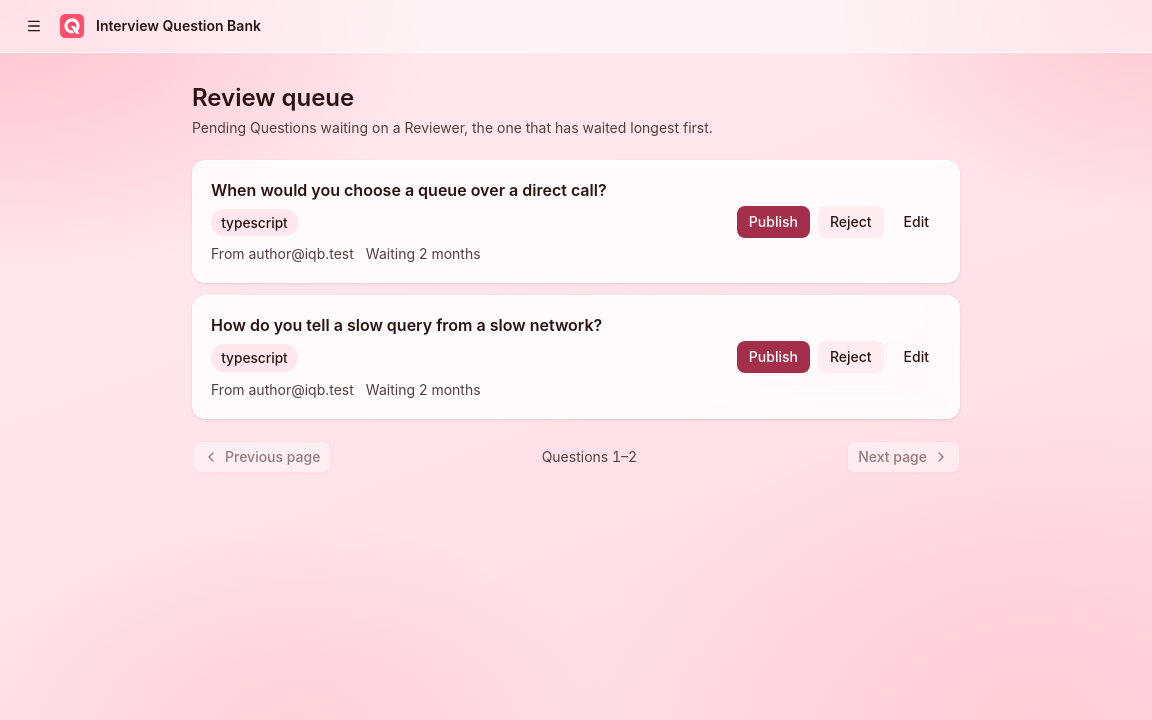
it: publishing from the review queue › reports a refusal in the API's words, and keeps it after the queue reloads
The width and height of the screenshot is (1152, 720).
Step 1. Click the 1st button "Publish" → (773, 222), box [737,206,810,238]
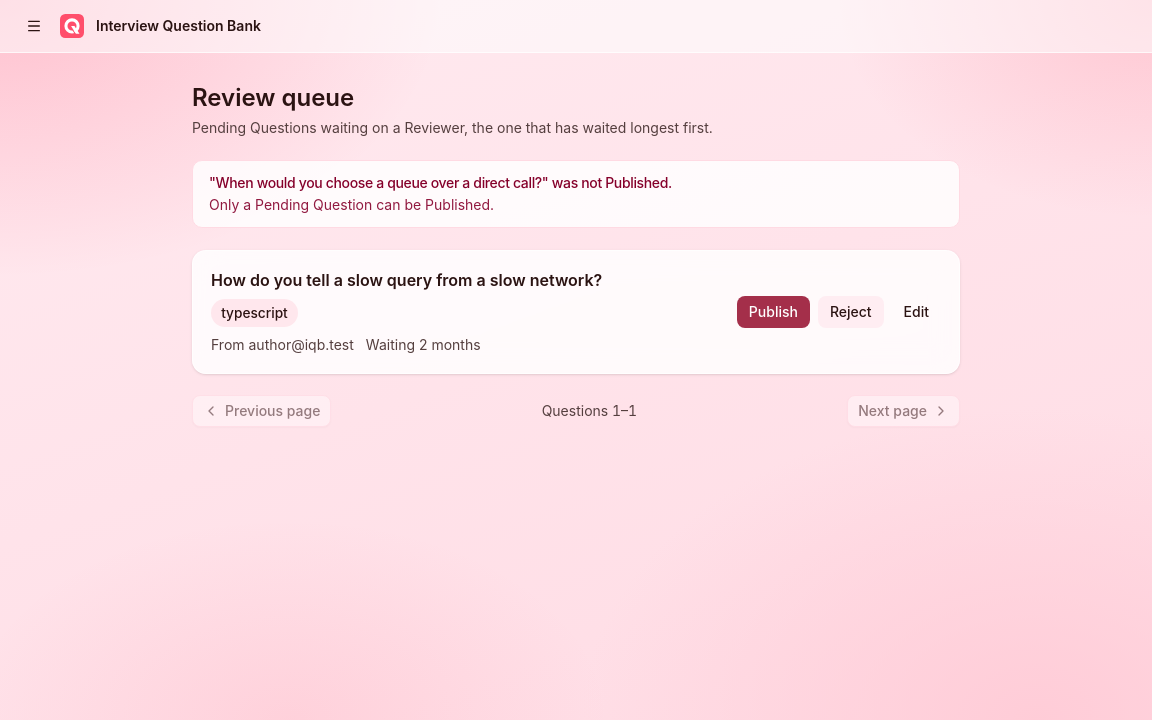
Now the text "Only a Pending Question can be Published." is shown, box [209,196,494,213]
